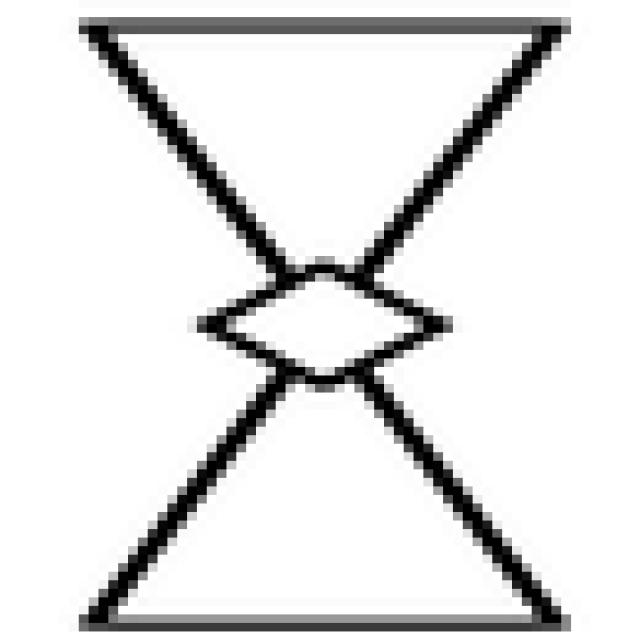Plug Valve: (89, 20, 566, 620)
